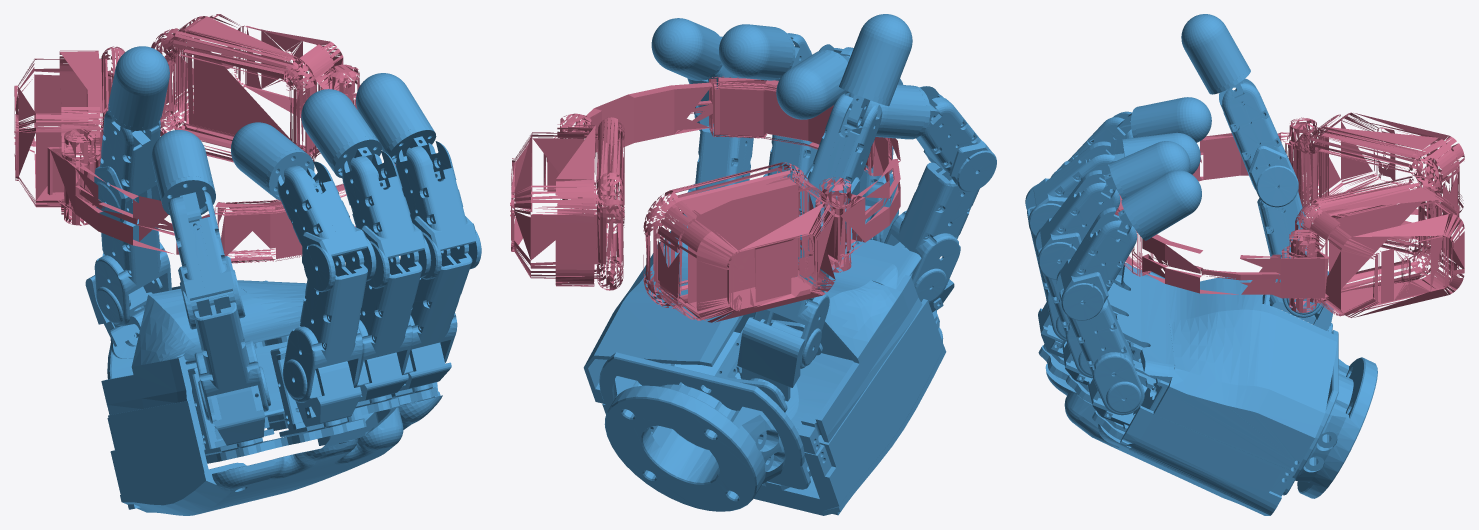
The picture shows the model from 3 angles, left to right: view 1: azimuth 30°, elevation 25°; view 2: azimuth 150°, elevation 25°; view 3: azimuth 270°, elevation 25°; orthographic projection. The views are drawn at different scales.
Visible parts, largest first — view 1: 0; view 2: 0; view 3: 0.
Part boxes in pixels (x1=…): 0: x1=14, y1=14, x2=481, y2=515; 0: x1=510, y1=14, x2=996, y2=515; 0: x1=1025, y1=14, x2=1464, y2=515.
Bounding box in the file's own units: 0.1328 × 0.1986 × 0.185.
